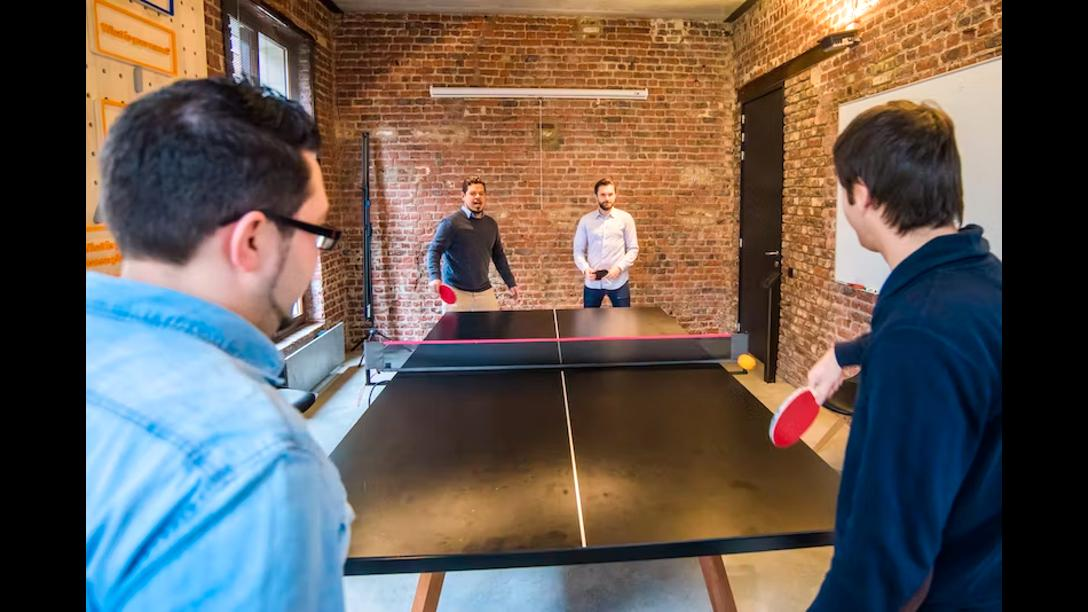Table-Tennis-Ball: (739, 355, 755, 370)
